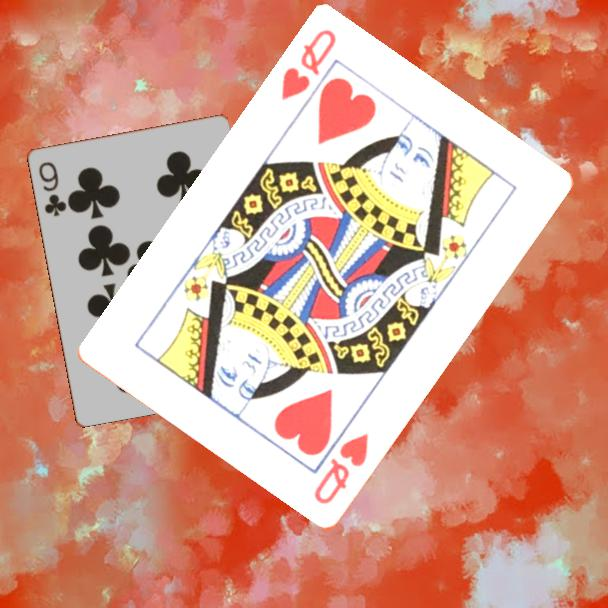c09: (35, 158, 69, 219)
h12: (277, 26, 340, 104), (310, 430, 372, 508)
